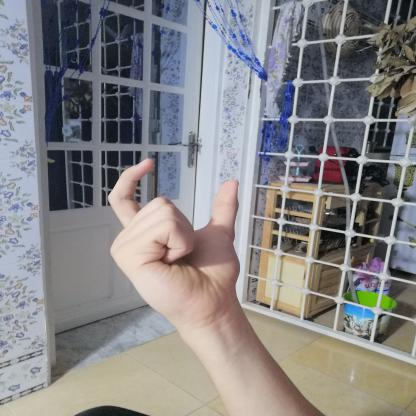NOON: (84, 151, 260, 333)
